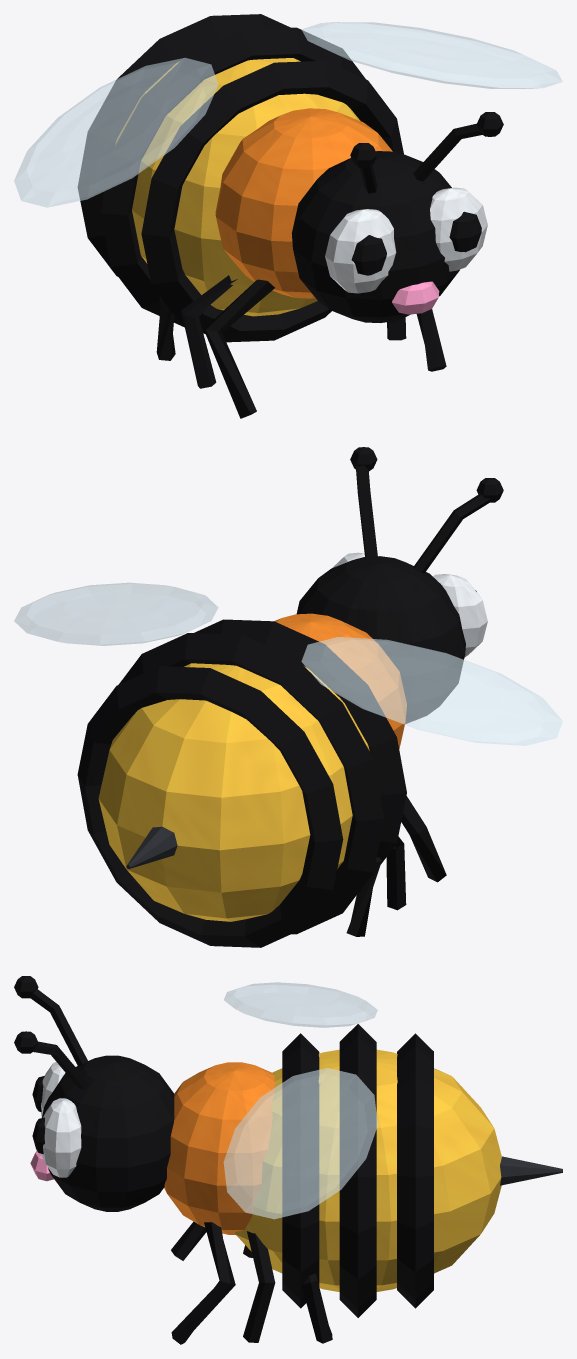
Rendered from C02_bee_v2.glb.
3 views of the same model, one above another, from view 1: azimuth 30°, elevation 25°; view 2: azimuth 150°, elevation 25°; view 3: azimuth 270°, elevation 25° (orthographic). The views are drawn at different scales.
Parts seen in each view (by area): view 1: Body, Head, Wing_R, Wing_L; view 2: Body, Head, Wing_R, Wing_L, Stinger; view 3: Body, Head, Wing_L, Wing_R, Stinger.
Part boxes in pixels (x1,y1,x2,y2): Body: (78, 14, 446, 418); Head: (291, 112, 503, 322); Wing_R: (14, 58, 218, 207); Wing_L: (301, 22, 562, 88); Body: (77, 613, 446, 947); Head: (296, 447, 503, 723); Wing_R: (301, 637, 562, 745); Wing_L: (14, 582, 218, 645); Stinger: (126, 826, 177, 868); Body: (164, 1024, 501, 1344); Head: (14, 976, 174, 1211); Wing_L: (223, 1068, 377, 1219); Wing_R: (224, 982, 377, 1027); Stinger: (500, 1156, 562, 1185).
Bounding box in the file's own units: 0.1356 × 0.081 × 0.134.
Materials: 2 (1 with a texture image).
